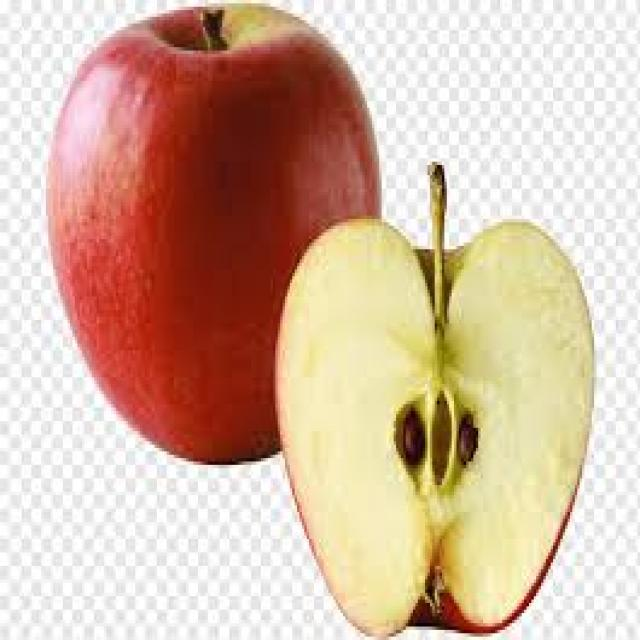Apple: (46, 8, 375, 462), (277, 212, 594, 631)
